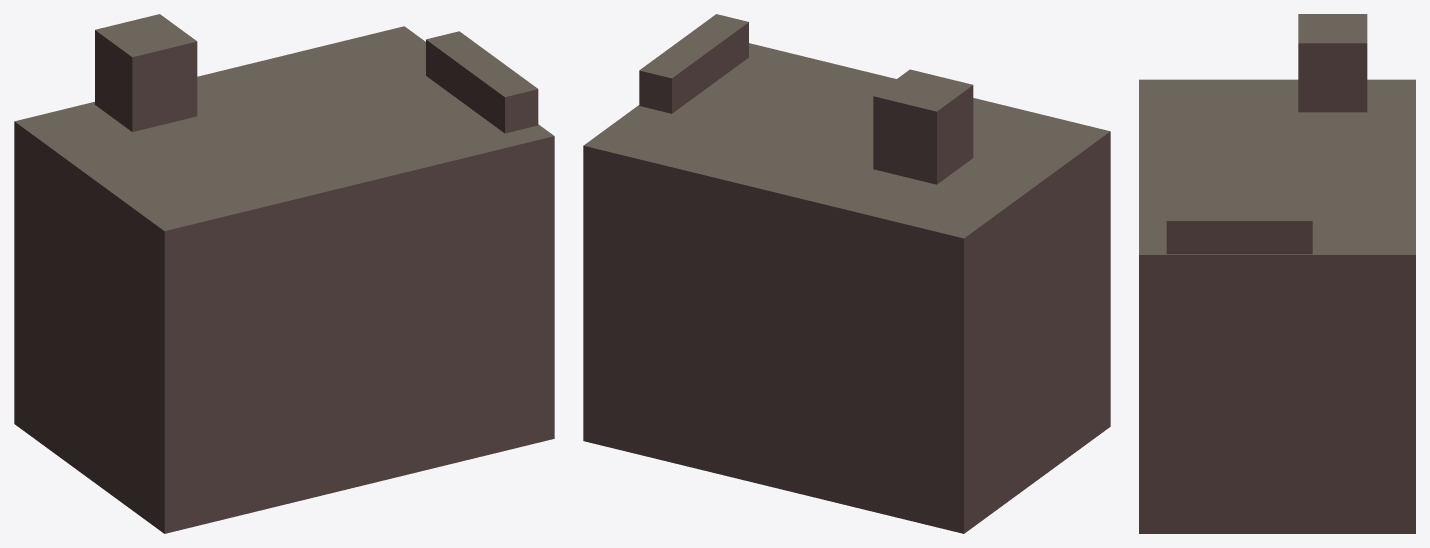
The model's file is mh-mill-lofts.far-facades-v3.lod2.glb.
3 renders of one model, left to right at view 1: azimuth 30°, elevation 25°; view 2: azimuth 150°, elevation 25°; view 3: azimuth 270°, elevation 25°, orthographic. The views are drawn at different scales.
Parts seen in each view (by area): view 1: mh-mill-lofts; view 2: mh-mill-lofts; view 3: mh-mill-lofts.
Part boxes in pixels (left/top/right/bottom): mh-mill-lofts: left=14, top=14, right=554, bottom=533; mh-mill-lofts: left=583, top=14, right=1110, bottom=533; mh-mill-lofts: left=1139, top=14, right=1415, bottom=533.
Bounding box in the file's own units: 18 × 17.65 × 12.
